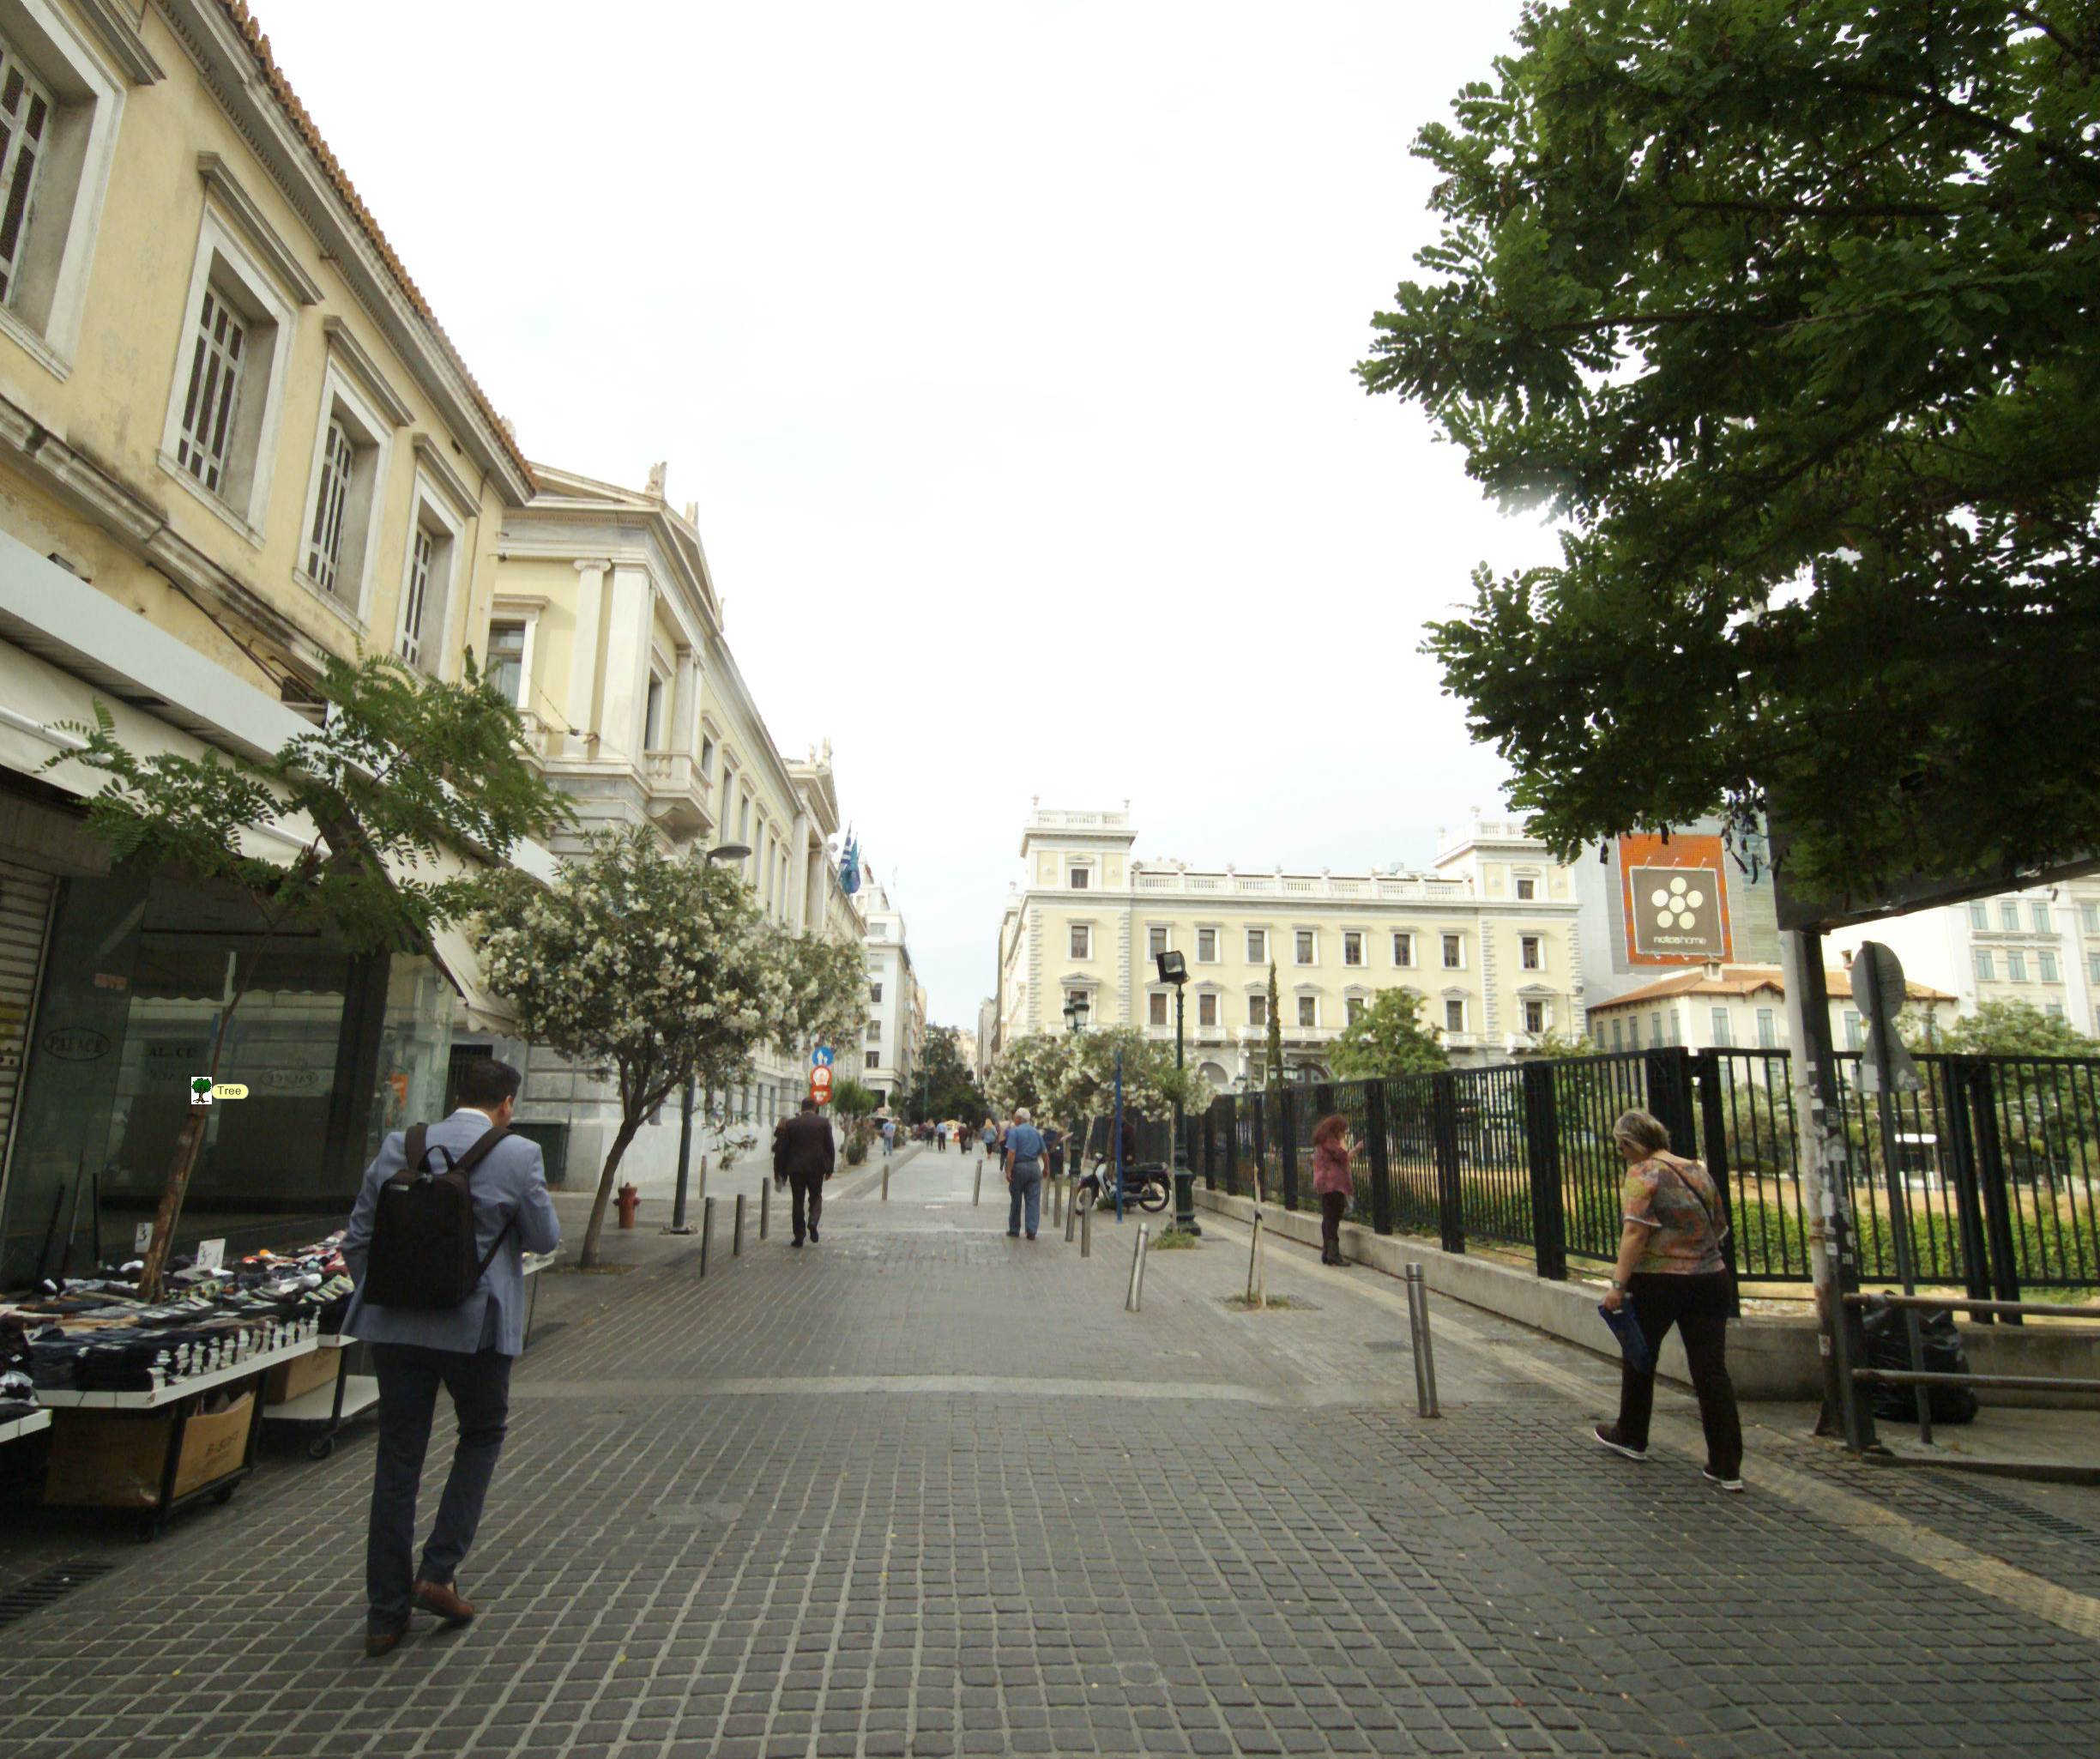tree: (522, 787, 792, 1316)
